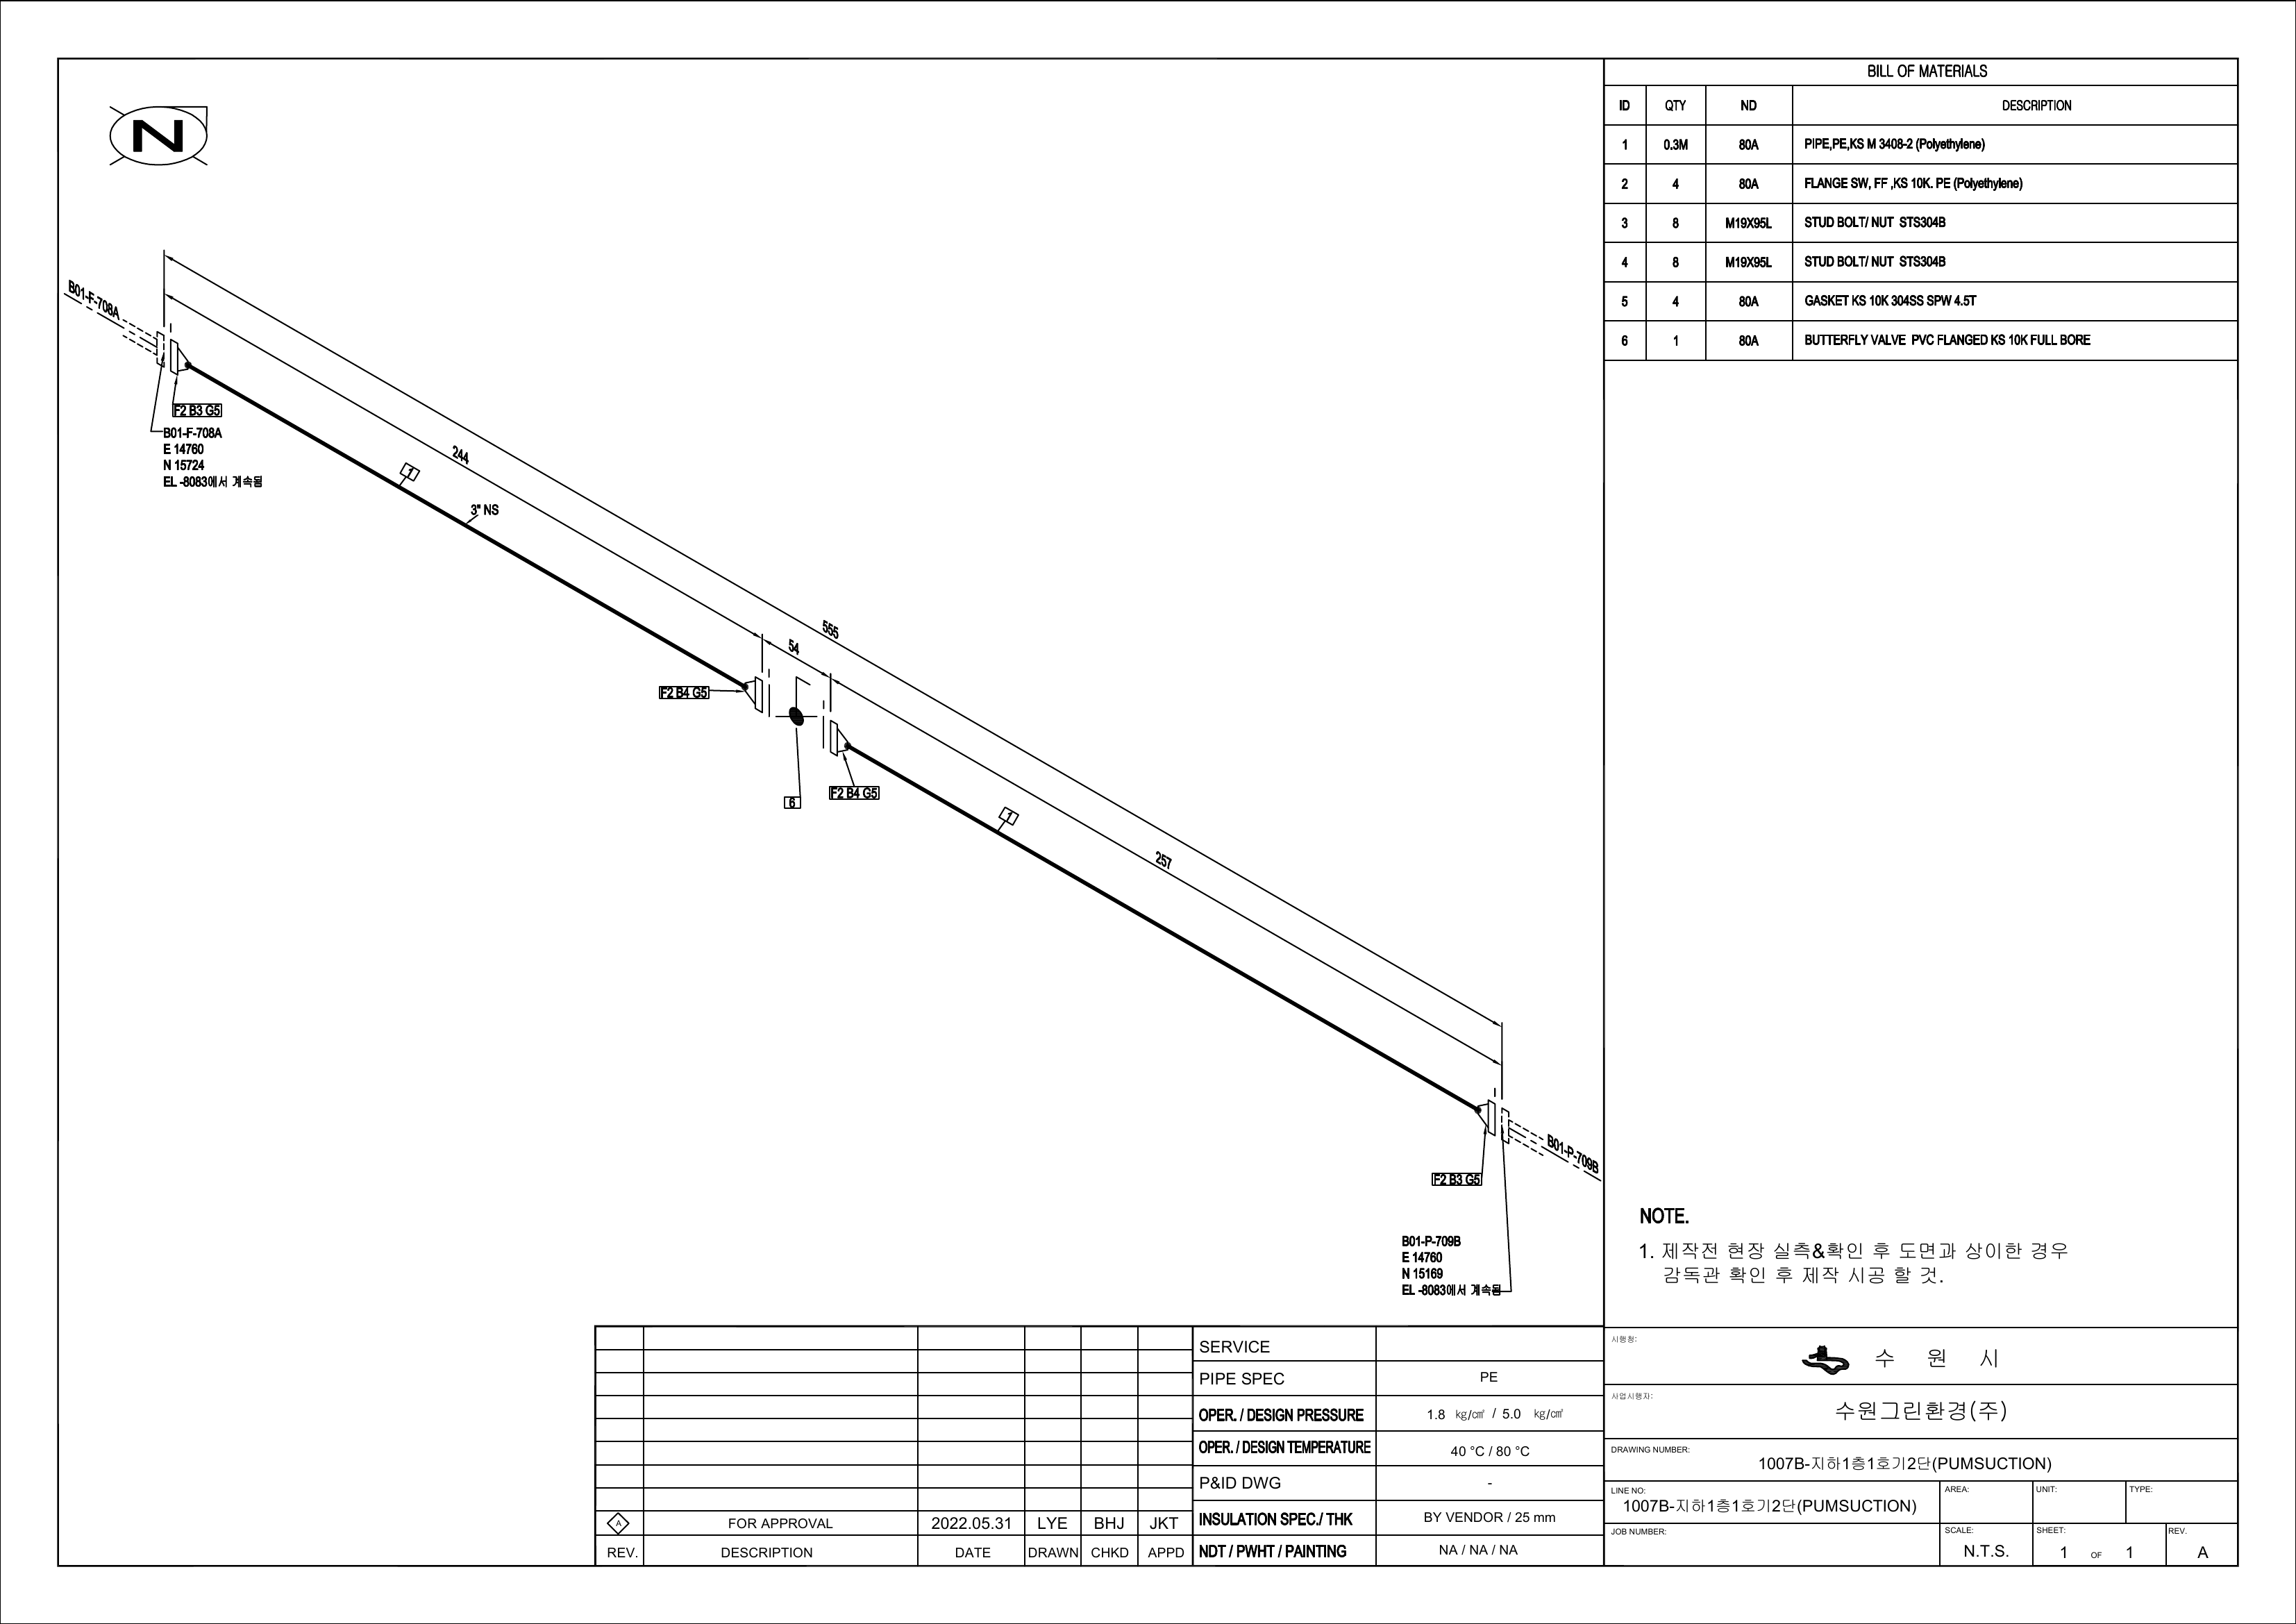table: (1597, 47, 2243, 369)
